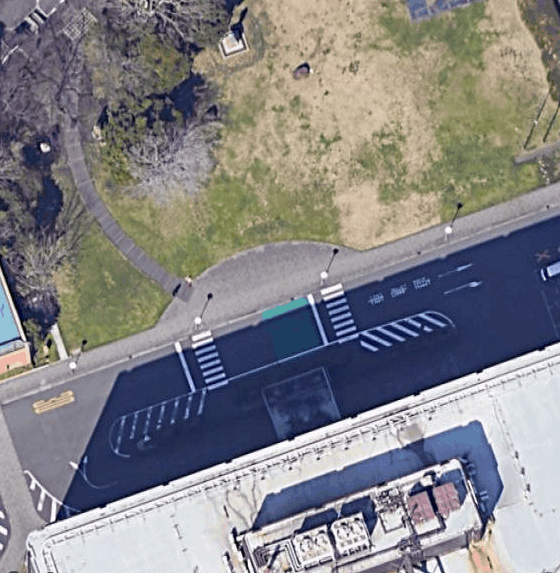facility: (70, 444, 558, 572)
